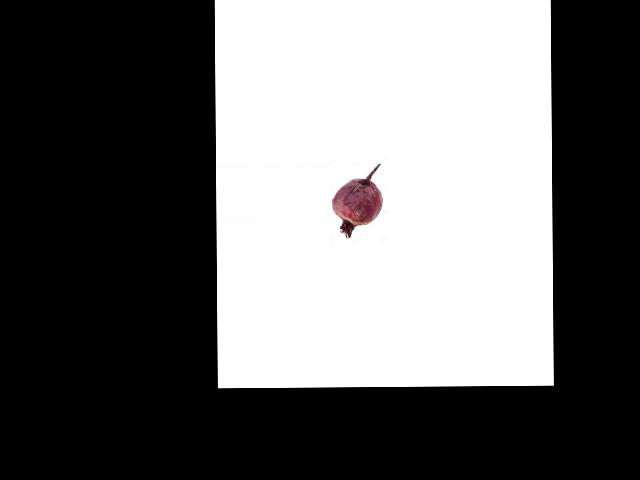beet: (332, 164, 383, 238)
